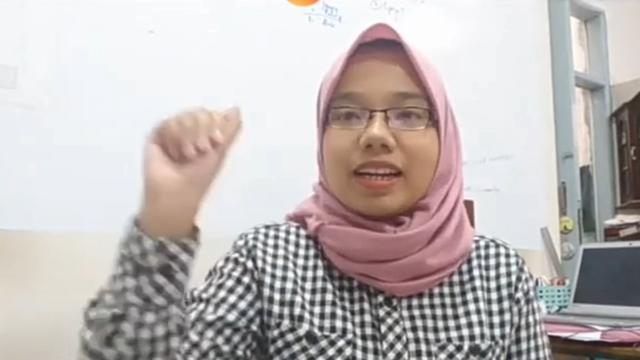A: (138, 105, 246, 196)
